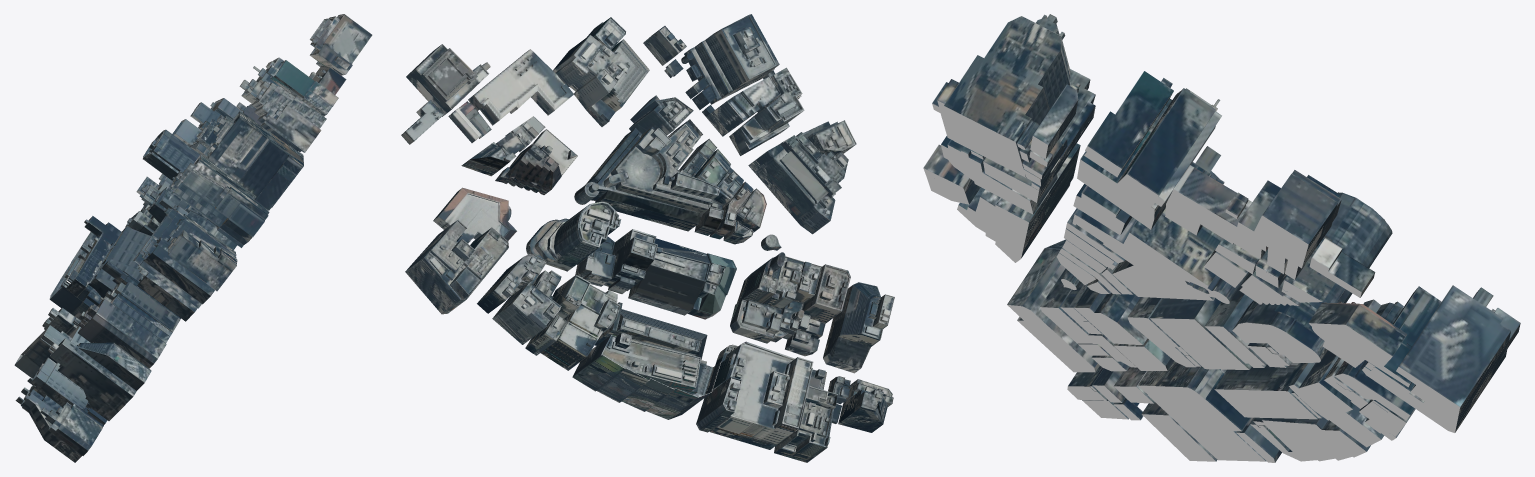
Rendered from l2_data489.glb.
The picture shows the model from 3 angles, left to right: view 1: azimuth 30°, elevation 25°; view 2: azimuth 150°, elevation 25°; view 3: azimuth 270°, elevation 25°; orthographic projection. The views are drawn at different scales.
Bounding box in the file's own units: 206 × 178 × 180.
Materials: 2 (1 with a texture image).
